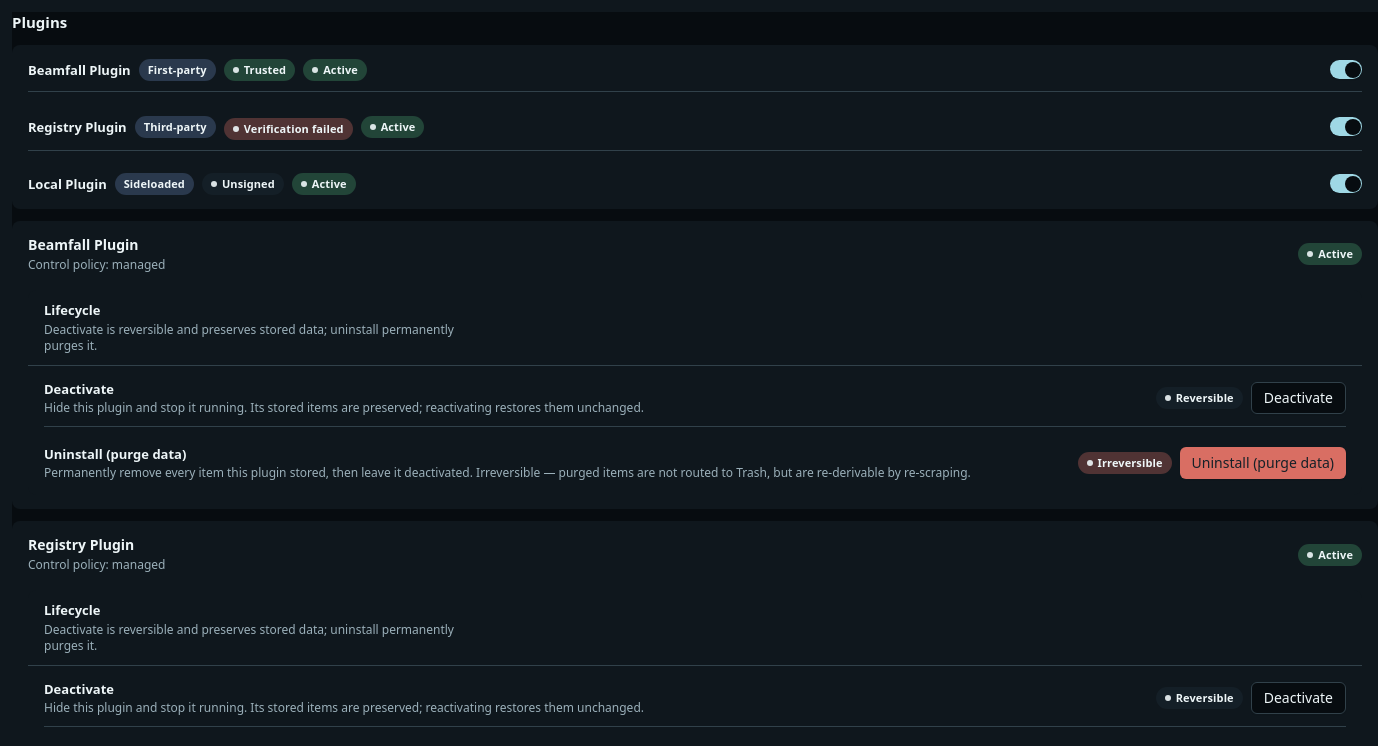
Test: Plugins › renders a provenance chip and trust badge for each provenance class
The image size is (1378, 746).
Expected: the text "First-party" is shown, top-left (139, 59), bottom-right (216, 81)
Expected: the text "Trusted" is shown, top-left (224, 59), bottom-right (295, 81)
Click the heading "Verification failed" at (288,127), box top-left (224, 114), bottom-right (353, 140)
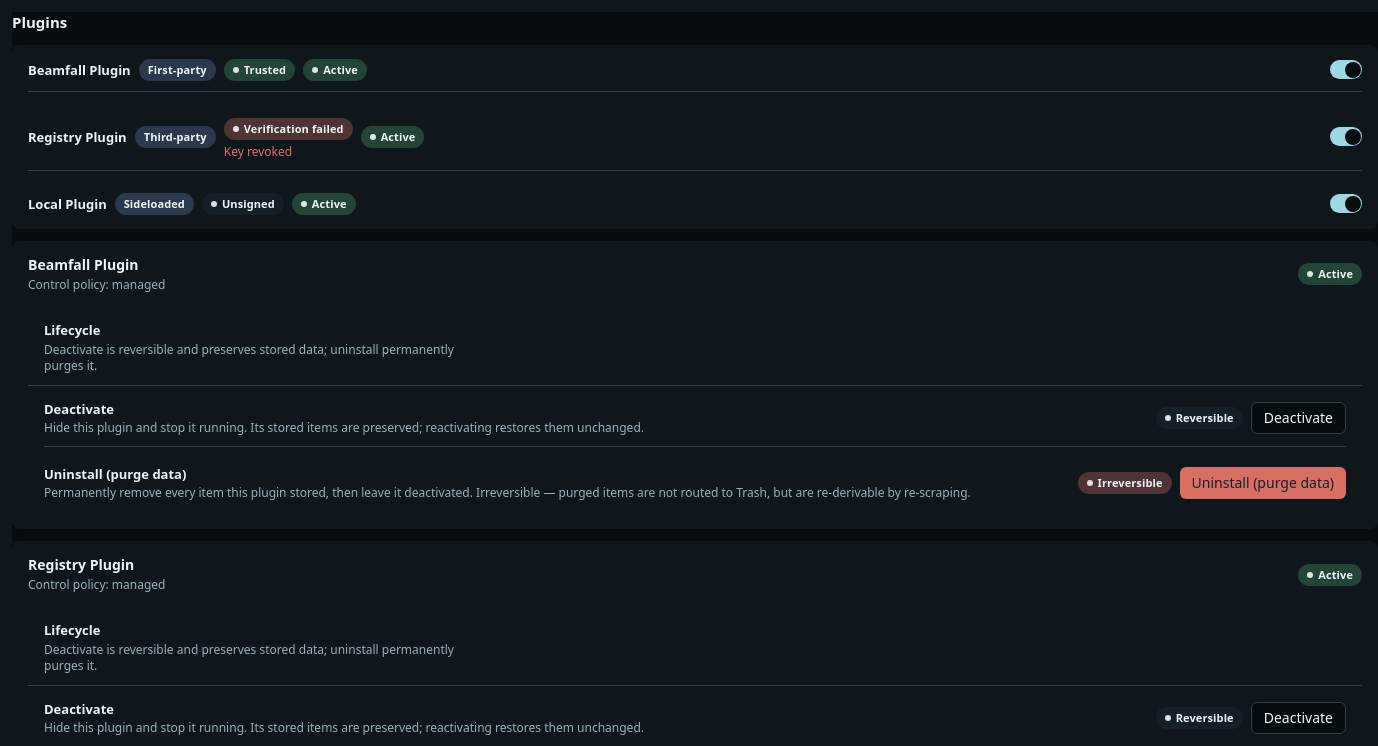
Now the text "Key revoked" is shown, box top-left (224, 143), bottom-right (292, 160)
